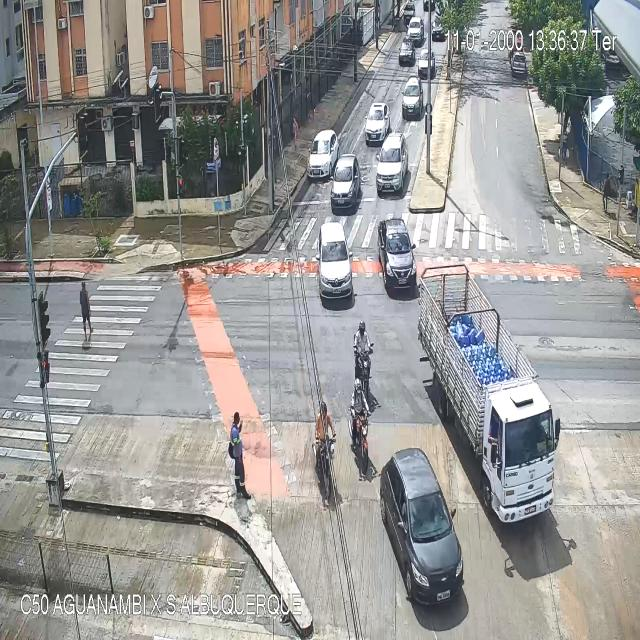Car: (381, 448, 463, 603), (316, 223, 354, 298), (377, 220, 417, 289), (375, 133, 409, 190), (330, 154, 362, 210), (307, 130, 339, 178), (364, 103, 390, 144), (402, 75, 422, 115), (418, 48, 436, 77), (398, 39, 415, 65), (511, 53, 527, 77), (407, 17, 423, 40), (432, 20, 446, 43), (404, 4, 416, 23)
Motorcycle: (315, 402, 336, 503), (352, 379, 371, 475), (353, 320, 373, 406)
Truck: (419, 268, 561, 520)
